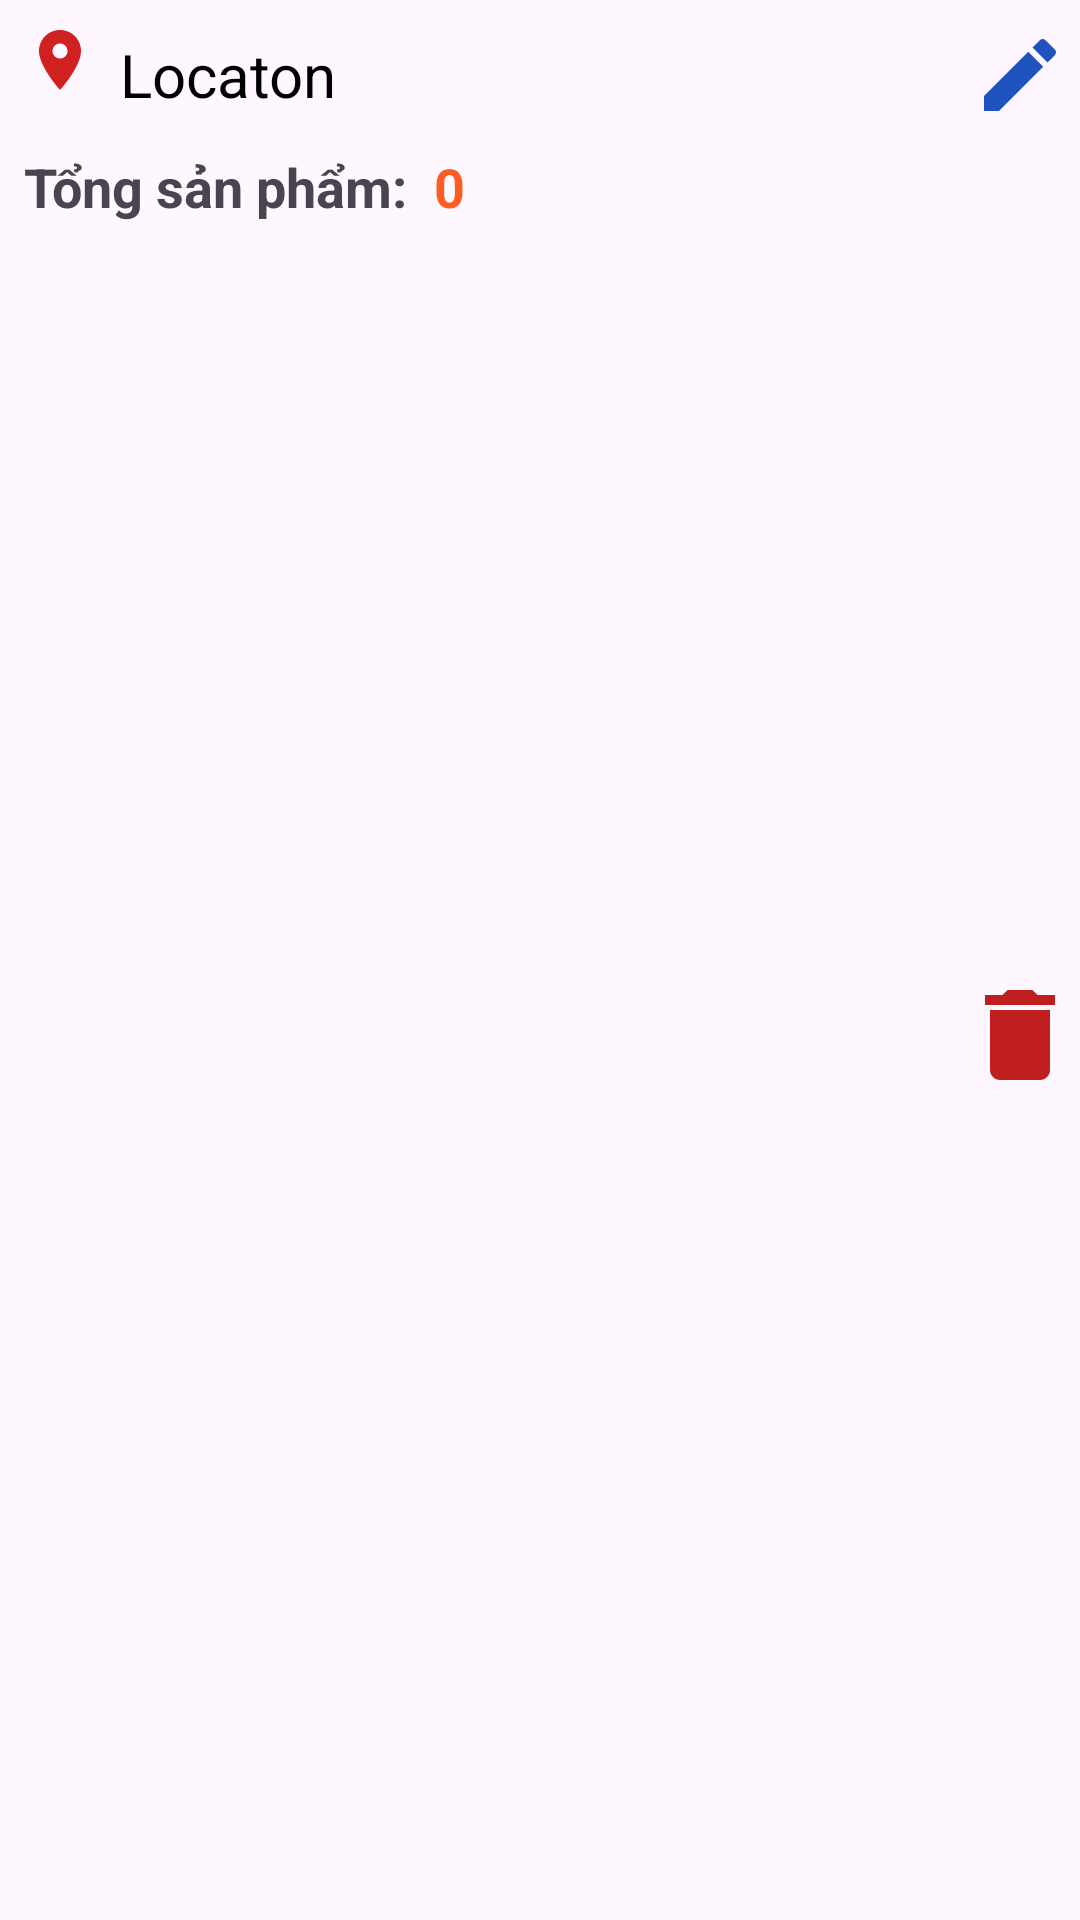

Named icons in this screenshot (1080w x 1920h) and their bounding boxes, (x1, y1, x2, y2):
delete: (985, 990, 1055, 1080)
edit: (984, 39, 1056, 111)
location: (39, 30, 81, 90)
